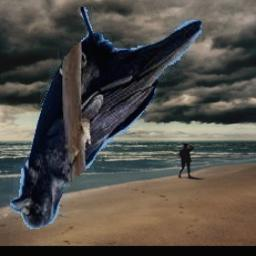Crow: (11, 8, 203, 231)
